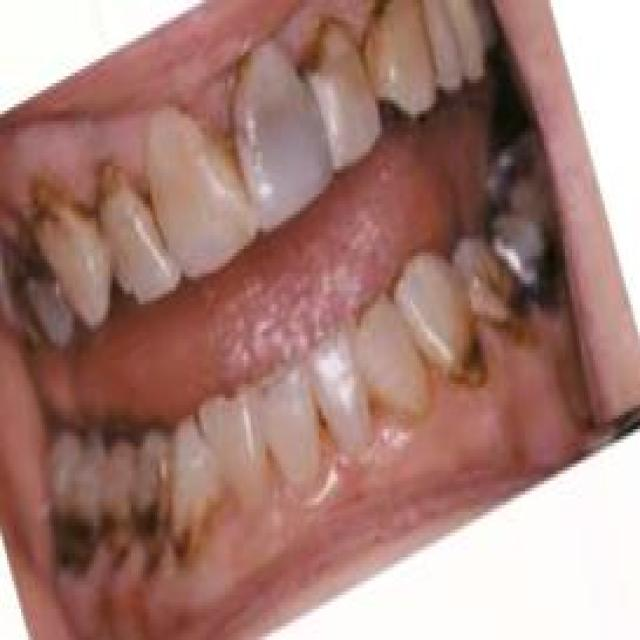caries: (440, 309, 500, 411), (487, 268, 551, 362), (21, 167, 89, 247), (123, 477, 175, 578), (48, 493, 99, 586), (2, 239, 62, 309)
